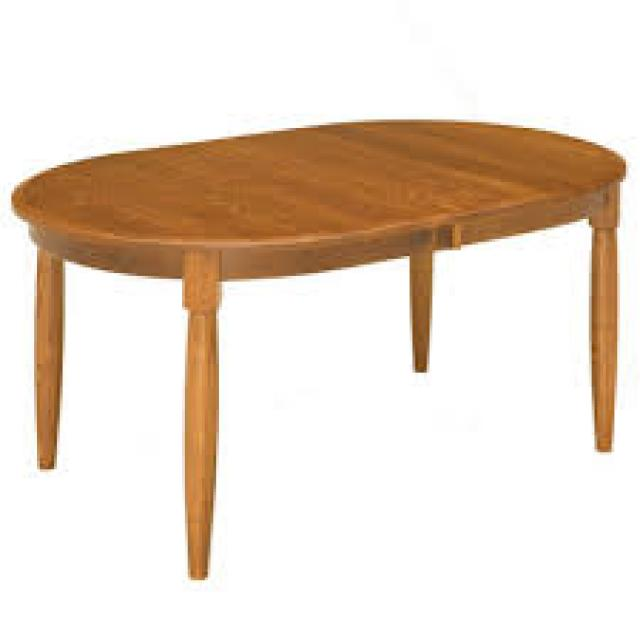obstacle: (25, 72, 625, 538)
